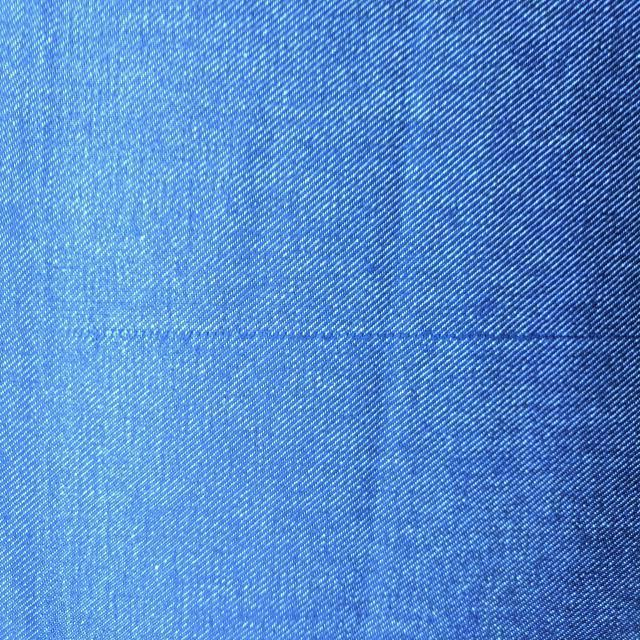Line: (88, 327, 637, 342)
